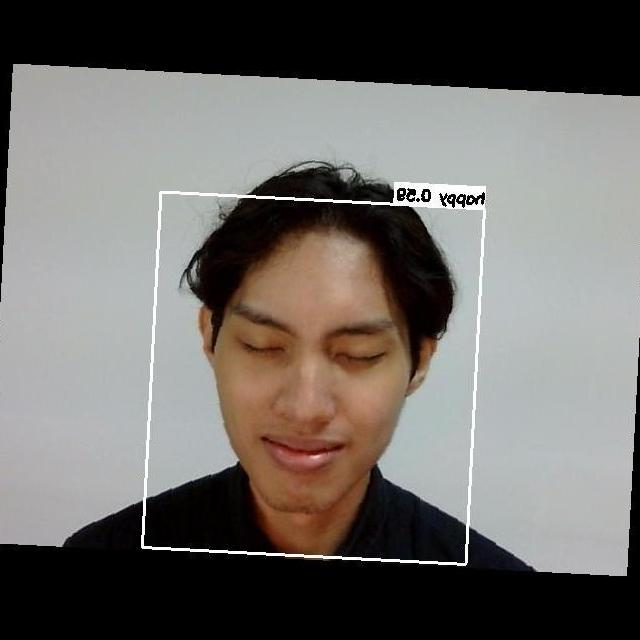Sad: (199, 270, 414, 485)
